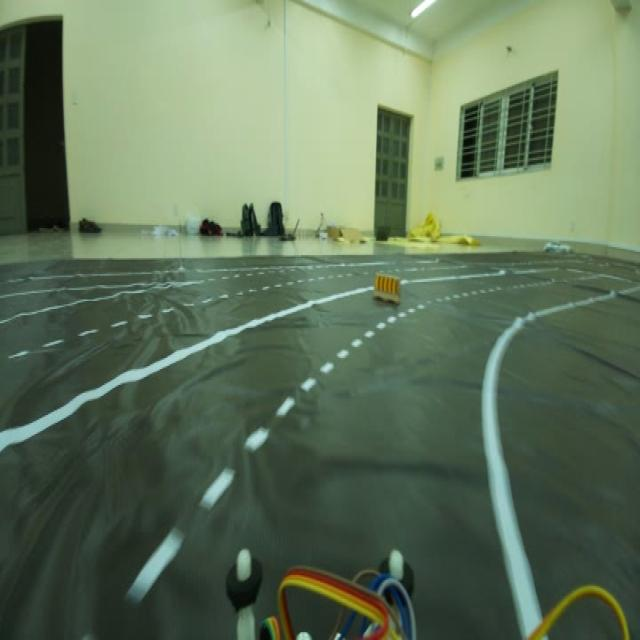roadblock: (370, 264, 405, 306)
